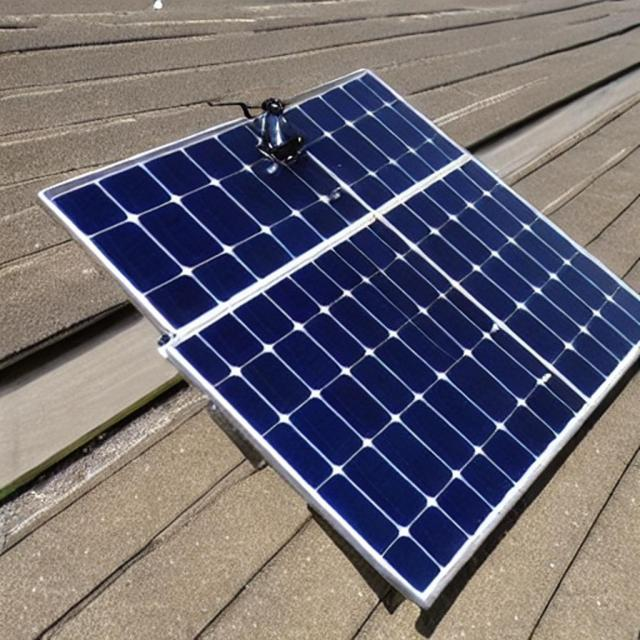no faulty: (47, 70, 640, 602)
